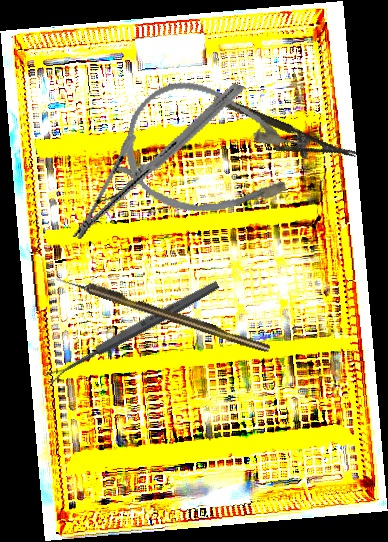Cannula: (113, 70, 317, 236)
Hook Surgical: (53, 271, 272, 355)
Needle Holder: (70, 49, 246, 274), (204, 92, 358, 181)
Surgical Spoon: (44, 278, 221, 385)
